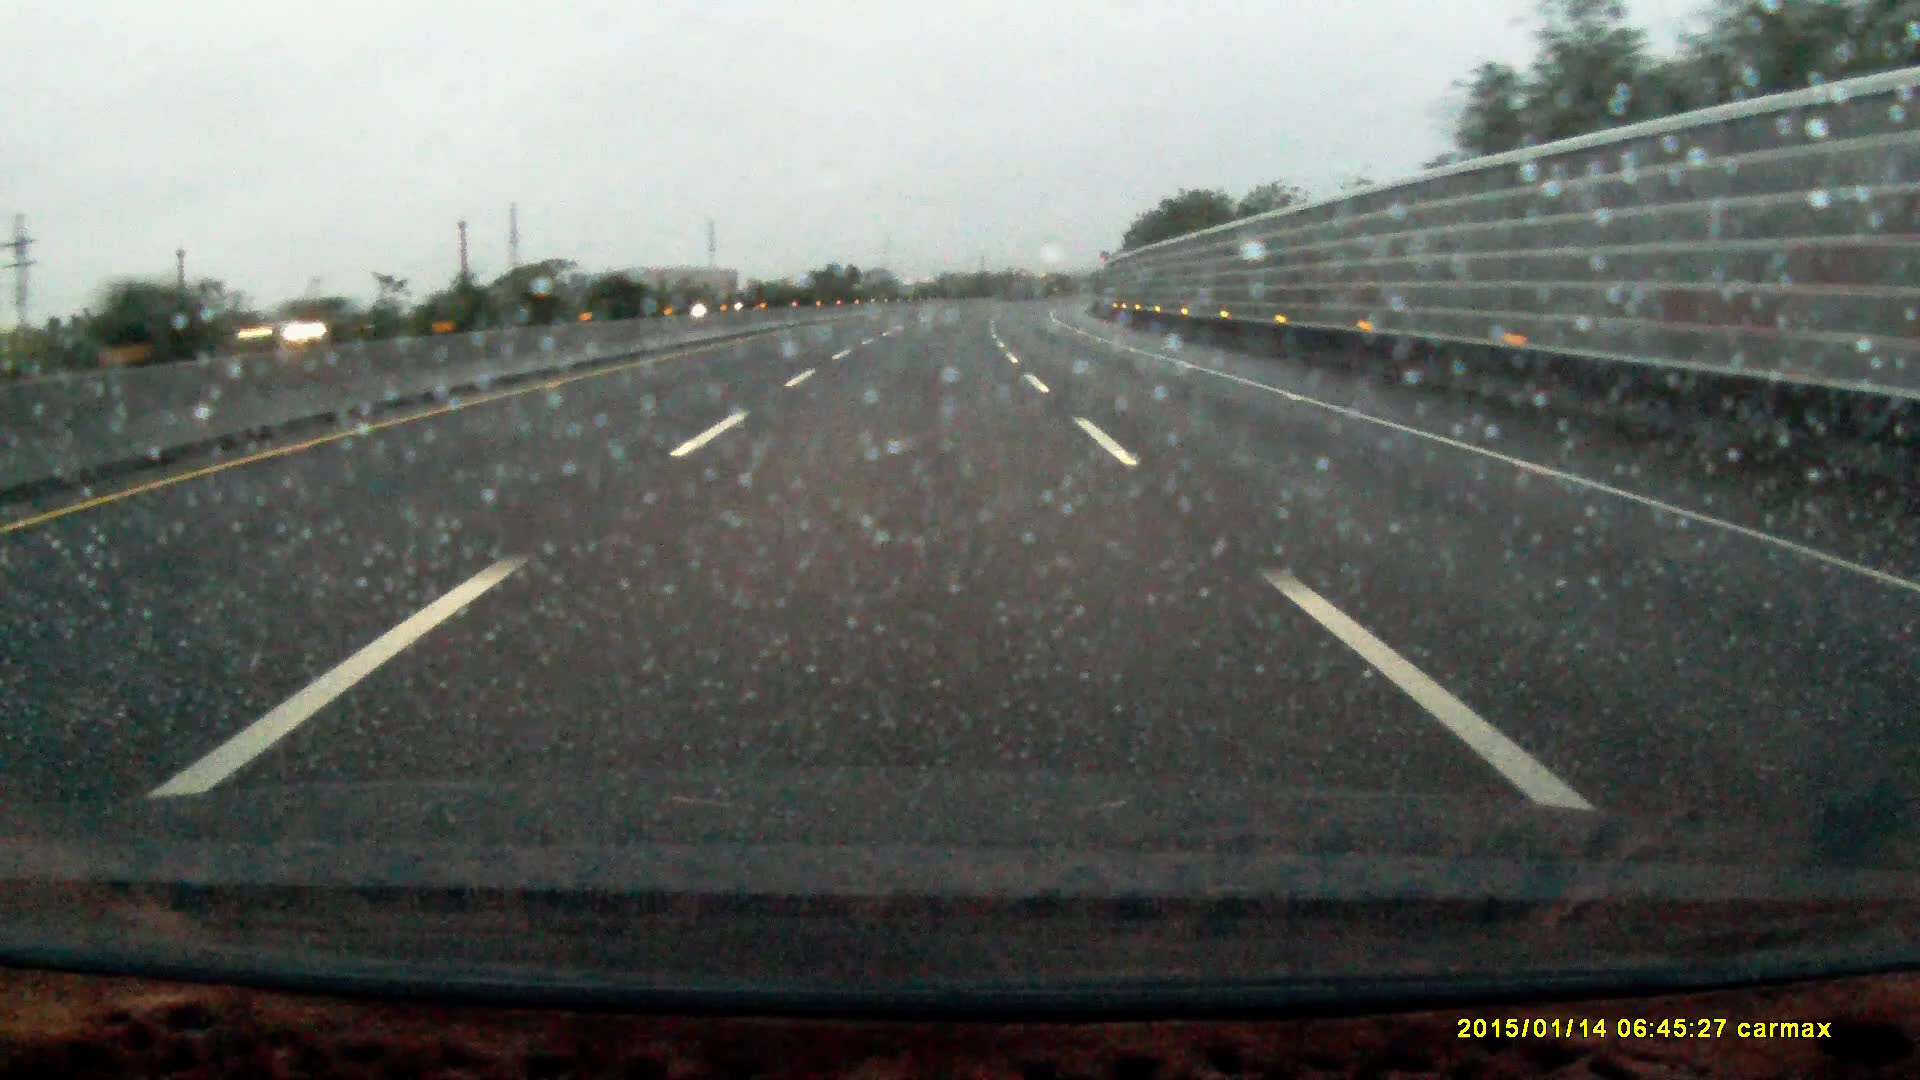vehicle: (229, 301, 400, 351)
